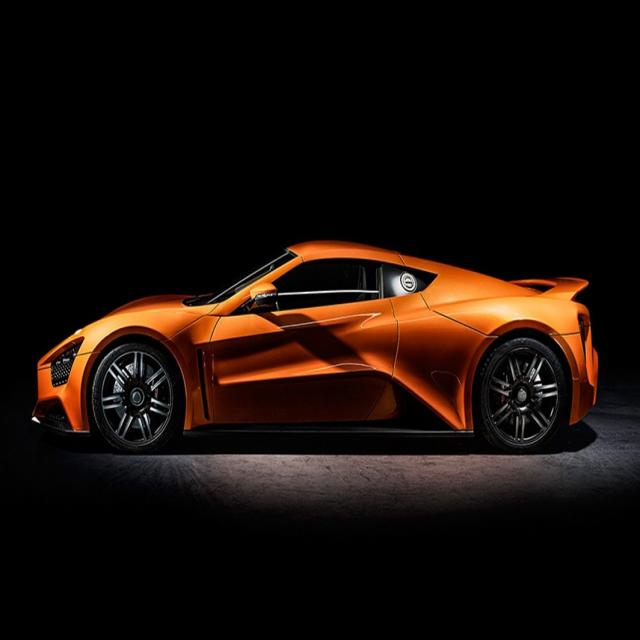car: (31, 179, 606, 487)
